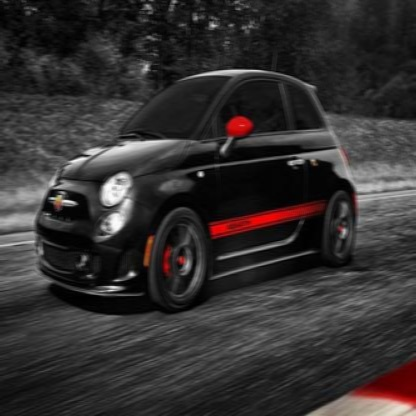Vehicle: (35, 52, 359, 312)
